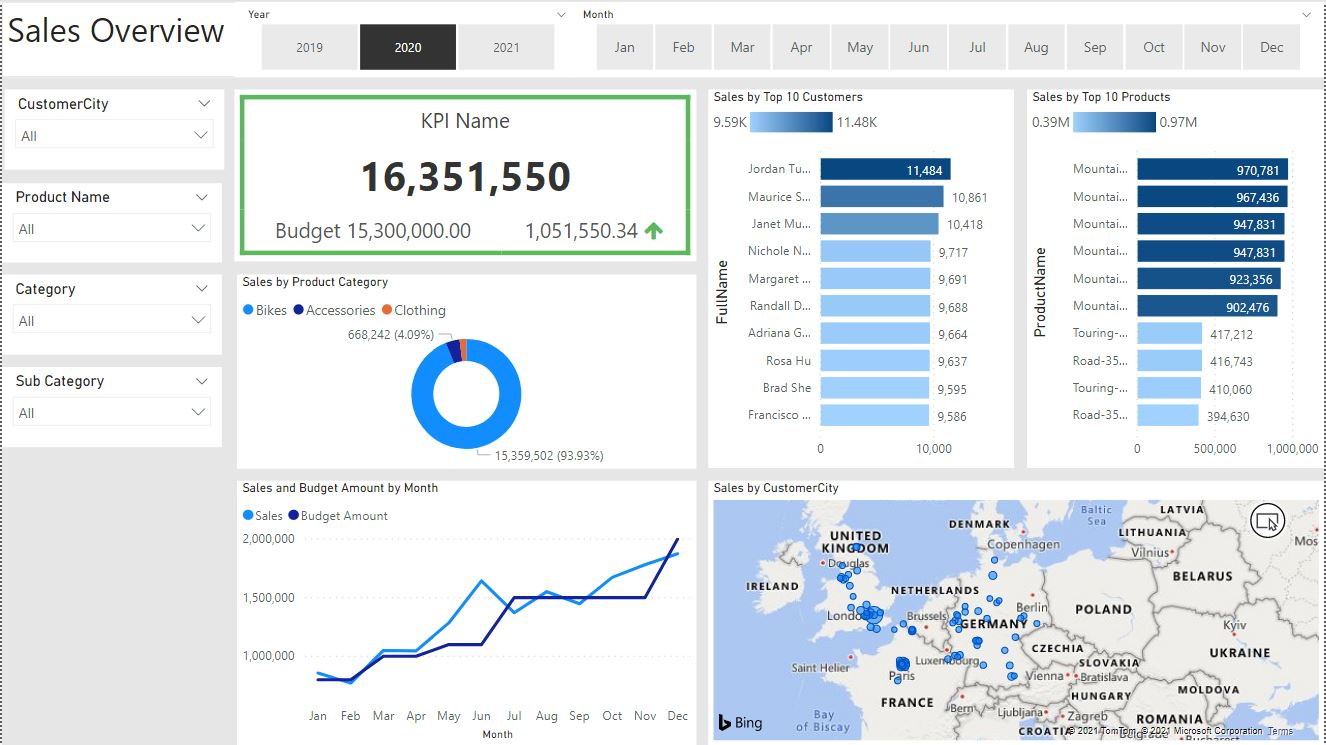

The dashboard page shown, as its layout file describes it:
{"tool":"powerbi","page":{"name":"Sales Overview","canvas":[1280,720],"ordinal":0},"visuals":[{"type":"textbox","box":[0,0,1280,72.9],"z":0},{"type":"slicer","fields":{"Values":["DIM_Customer.CustomerCity"]},"box":[2.4,85,212.5,77.7],"z":1000},{"type":"slicer","fields":{"Values":["DIM_Products.Sub Category"]},"box":[0,353.4,212.5,77.7],"z":2000},{"type":"slicer","fields":{"Values":["DIM_Products.Product Category"]},"box":[0,263.5,212.5,77.7],"z":3000},{"type":"slicer","fields":{"Values":["DIM_Products.ProductName"]},"box":[0,174.9,212.5,76.5],"z":4000},{"type":"slicer","fields":{"Values":["DIM_Calendar.Year"]},"box":[224.7,0,334,72.9],"z":5000},{"type":"slicer","fields":{"Values":["DIM_Calendar.MonthShort"]},"box":[548.9,0,731.1,72.9],"z":6000},{"type":"BBED0A4D4D8D44CE93CF2DAFADEE466C","fields":{"actual":["FACT_InsternetSales.Sales"],"target1":["FACT_Budget.Budget Amount"],"target2":["Key Measures.Sales - Budget"]},"box":[224.7,85,446.9,166.4],"z":7000},{"type":"donutChart","fields":{"Category":["DIM_Products.Product Category"],"Y":["Key Measures.Sales"]},"box":[227.1,263.5,444.5,188.2],"z":8000},{"type":"lineChart","fields":{"Y":["Key Measures.Sales","Key Measures.Budget Amount"],"Category":["DIM_Calendar.MonthShort"]},"box":[227.1,463.8,444.5,256.2],"z":9000},{"type":"barChart","title":"Sales by Top 10 Customers","fields":{"Y":["Key Measures.Sales"],"Category":["DIM_Customer.FullName"]},"box":[683.7,85,296.3,366.8],"z":9001},{"type":"barChart","title":"Sales by Top 10  Products","fields":{"Y":["Key Measures.Sales"],"Category":["DIM_Products.ProductName"]},"box":[992.2,85,287.8,366.8],"z":9002},{"type":"map","fields":{"Category":["DIM_Customer.CustomerCity"],"Size":["Key Measures.Sales"]},"box":[683.7,463.9,596.3,256.2],"z":9003}]}

Visuals, with their boxes in screenshot pixels (x1, y1, x2, y2), scaled from the page's 1280x720 canvas onto the 1326x745 screenshot:
textbox: crop(0, 0, 1325, 75)
slicer - DIM_Customer.CustomerCity: crop(2, 88, 223, 168)
slicer - DIM_Products.Sub Category: crop(0, 366, 220, 446)
slicer - DIM_Products.Product Category: crop(0, 273, 220, 353)
slicer - DIM_Products.ProductName: crop(0, 181, 220, 260)
slicer - DIM_Calendar.Year: crop(233, 0, 579, 75)
slicer - DIM_Calendar.MonthShort: crop(569, 0, 1325, 75)
BBED0A4D4D8D44CE93CF2DAFADEE466C - FACT_InsternetSales.Sales x FACT_Budget.Budget Amount: crop(233, 88, 696, 260)
donutChart - DIM_Products.Product Category x Key Measures.Sales: crop(235, 273, 696, 467)
lineChart - Key Measures.Sales x Key Measures.Budget Amount: crop(235, 480, 696, 744)
"Sales by Top 10 Customers" barChart: crop(708, 88, 1015, 467)
"Sales by Top 10  Products" barChart: crop(1028, 88, 1325, 467)
map - DIM_Customer.CustomerCity x Key Measures.Sales: crop(708, 480, 1325, 744)
